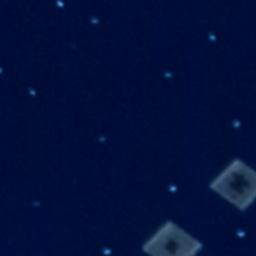square_cover: (206, 155, 256, 216), (139, 217, 208, 256)
